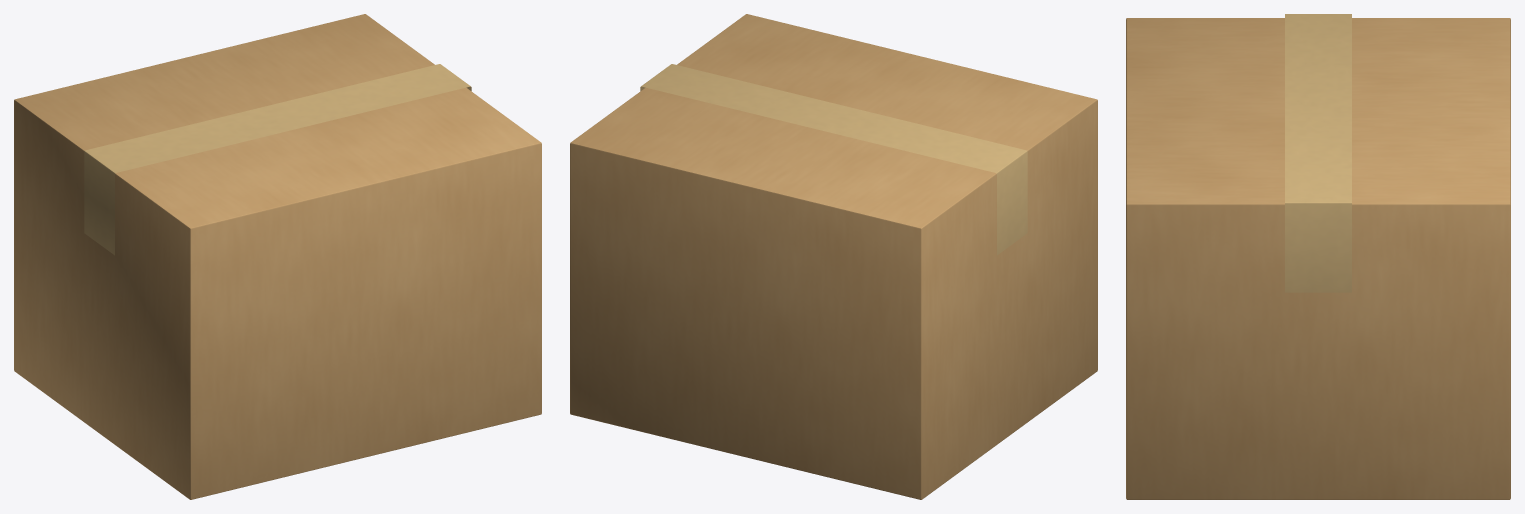
The model's file is SM_Box_Cardboard_M.fbx.
3 renders of one model, left to right at view 1: azimuth 30°, elevation 25°; view 2: azimuth 150°, elevation 25°; view 3: azimuth 270°, elevation 25°, orthographic. The views are drawn at different scales.
Parts seen in each view (by area): view 1: SM_Box_Cardboard_M; view 2: SM_Box_Cardboard_M; view 3: SM_Box_Cardboard_M.
Boxes of the visible parts, x1,y1,x2,y2 form: SM_Box_Cardboard_M: (14, 14, 541, 499); SM_Box_Cardboard_M: (570, 14, 1097, 499); SM_Box_Cardboard_M: (1126, 14, 1510, 499).
Size of what is drawn, in the model's own units: 0.466 by 0.343 by 0.4.
3 materials, 3 textured.
